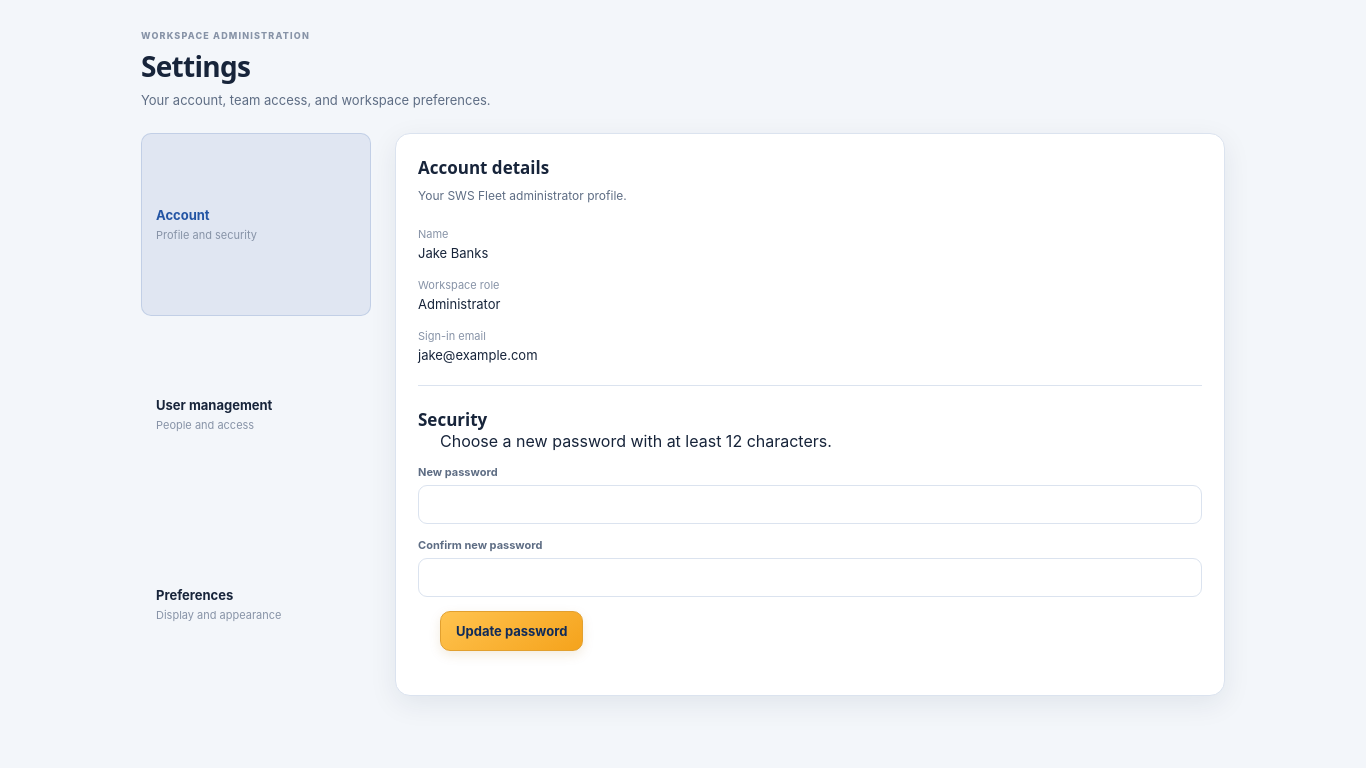
adds a pending user without emailing and sends an invite only on request
Expected: the text "jake@example.com" is shown, [418,347,538,363]
Click the button "User management People and access" at point(256, 415), box [141,323,371,506]
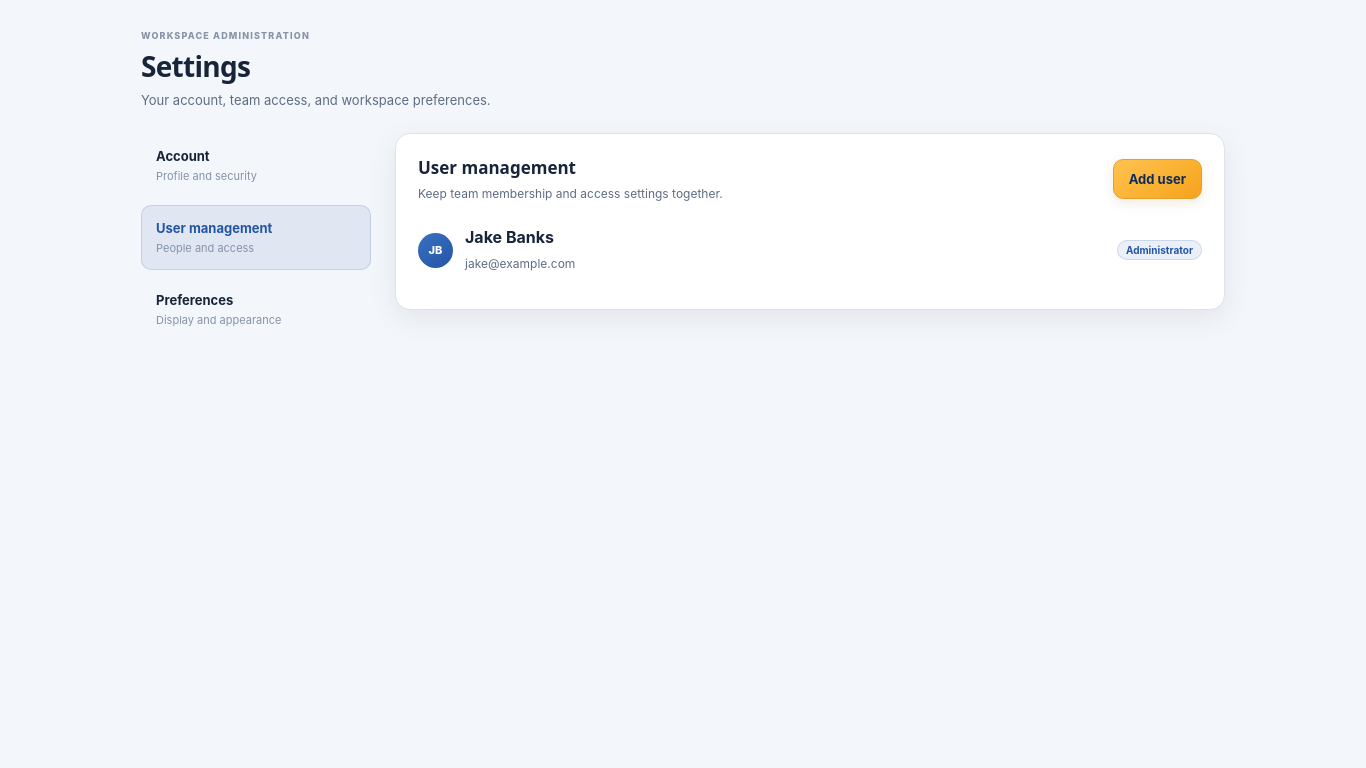
Expected: the text "Jake Banks" is shown, [465,227,554,247]
Click the button "Add user" at point(1157, 178), box [1113,158,1202,198]
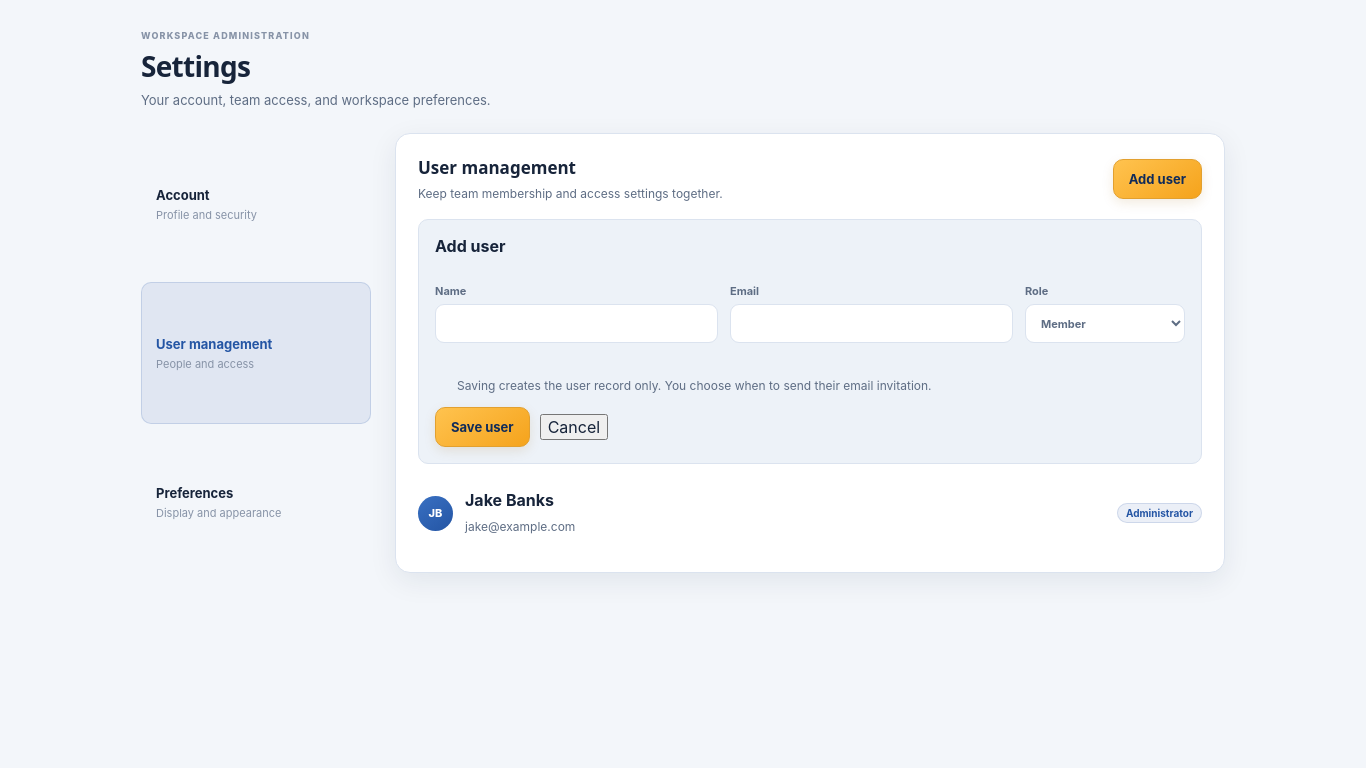
Type "Taylor Reed" into the field labelled "Name" at point(576, 324), box [435,304,718,343]
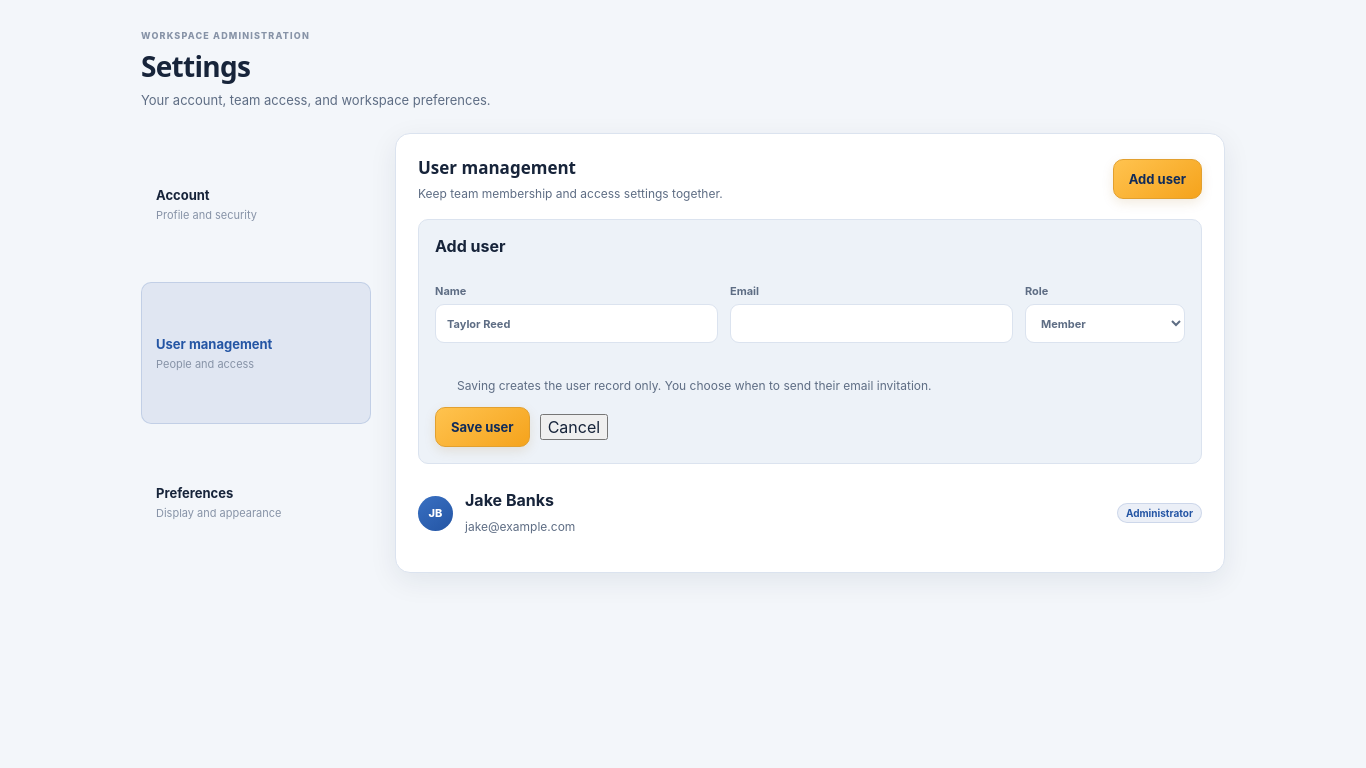
Type "taylor@example.com" into the field labelled "Email" at point(872, 324), box [730,304,1013,343]
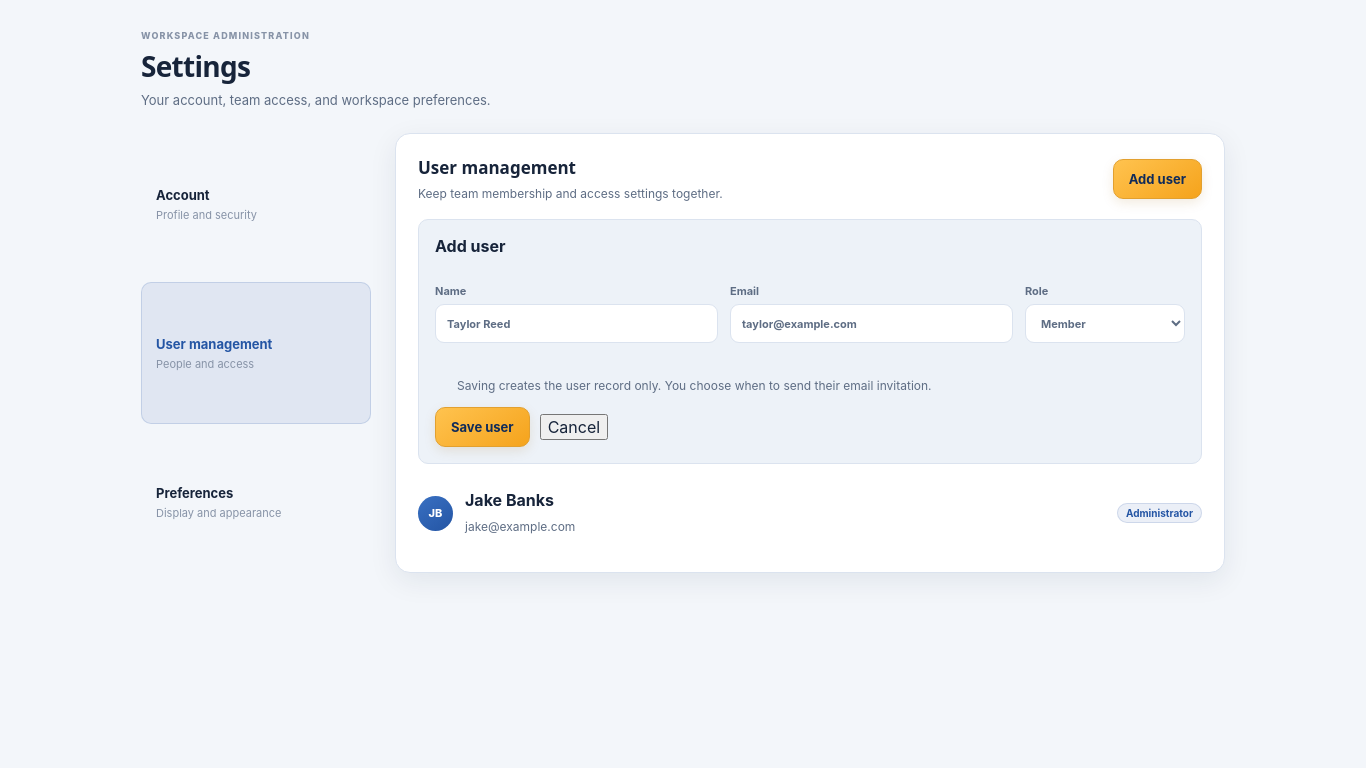
Select "Member" in the dropdown labelled "Role" at point(1105, 324), box [1025,304,1185,343]
Click the button "Save user" at point(482, 427), box [435,407,530,447]
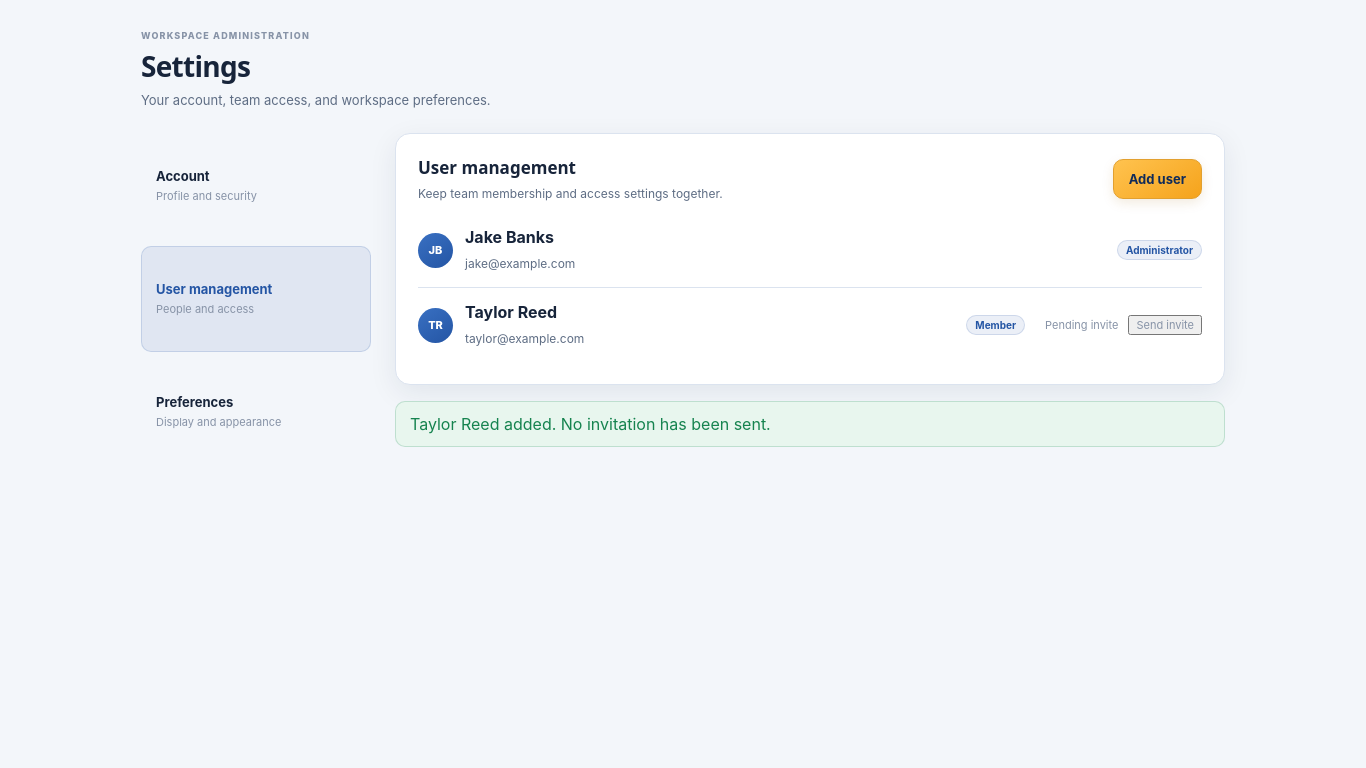
Result: the text "Taylor Reed" is shown at [465,302,557,322]
Result: the text "Pending invite" is shown at [1045,318,1118,332]
Click the button with aria-label "Send invite to Taylor Reed" at point(1165, 325), box [1128,315,1202,335]
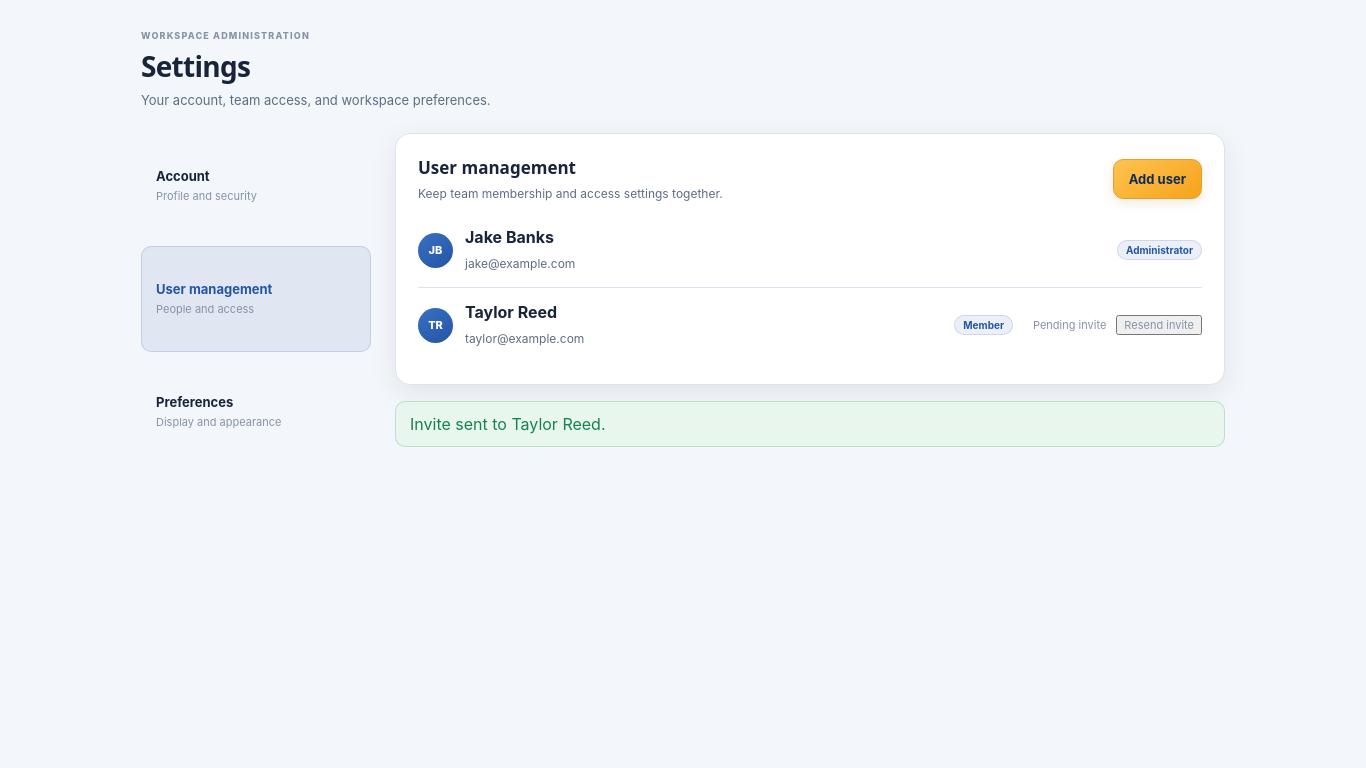
Result: the message shows "Invite sent to Taylor Reed" at [410,414,606,434]
